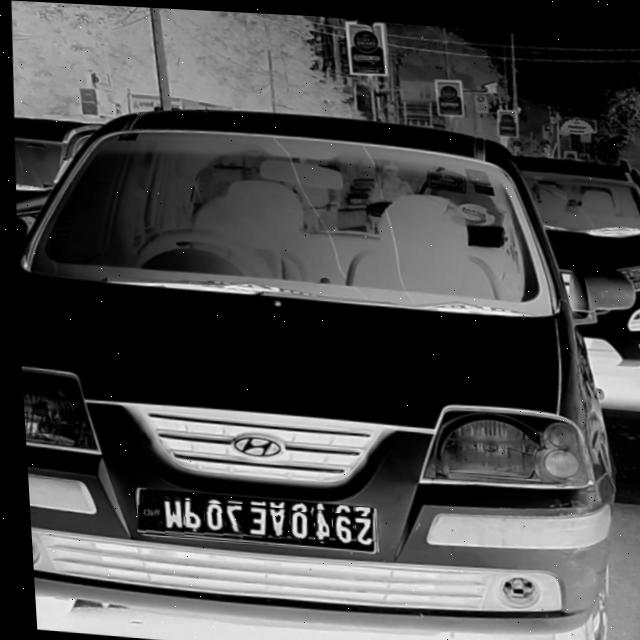0: (198, 500, 218, 530)
2: (347, 511, 366, 542)
4: (306, 505, 324, 539)
7: (219, 500, 238, 532)
9: (326, 509, 346, 541)
A: (262, 504, 281, 535), (283, 507, 302, 536)
E: (239, 501, 262, 534)
IND: (134, 491, 156, 520)
Indian_registered: (130, 487, 370, 540)
M: (155, 497, 178, 529)
P: (176, 497, 196, 530)
